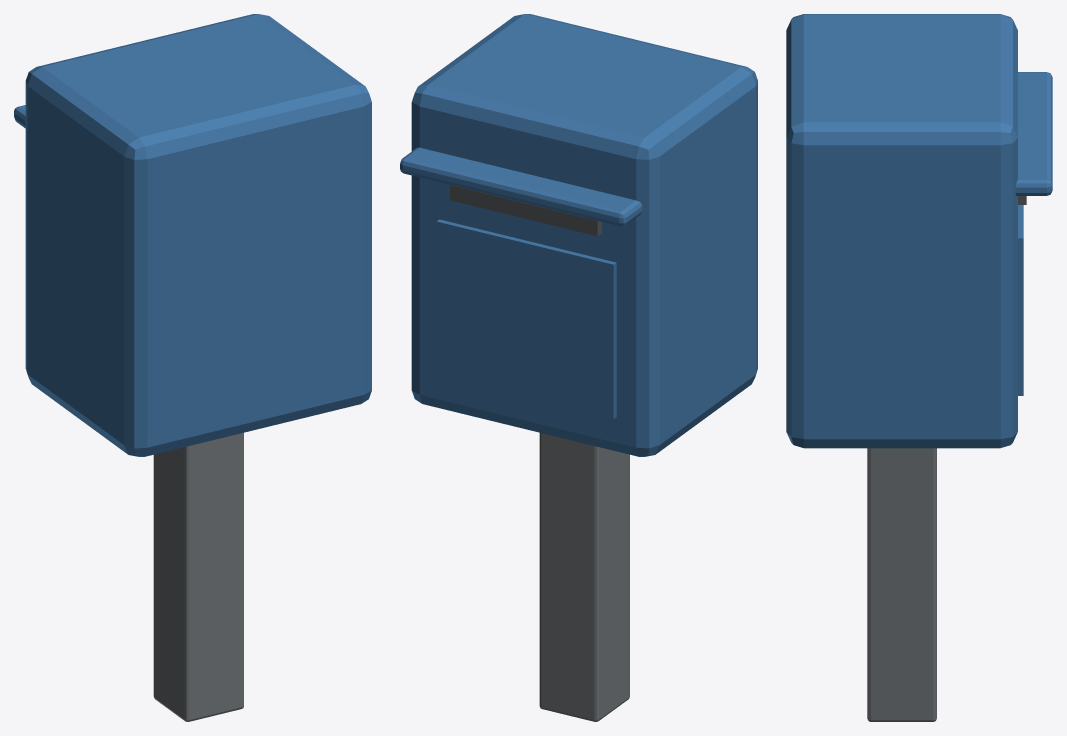
File: package_drop_box.glb
3 views of the same model, side by side, from view 1: azimuth 30°, elevation 25°; view 2: azimuth 150°, elevation 25°; view 3: azimuth 270°, elevation 25° (orthographic).
Visible parts, largest first — view 1: package_drop_box; view 2: package_drop_box; view 3: package_drop_box.
Part boxes in pixels (x1,y1,x2,y2): package_drop_box: [14, 14, 371, 721]; package_drop_box: [400, 14, 757, 721]; package_drop_box: [786, 14, 1052, 721].
Size of the model in its own units: 0.5 by 1.22 by 0.46.
